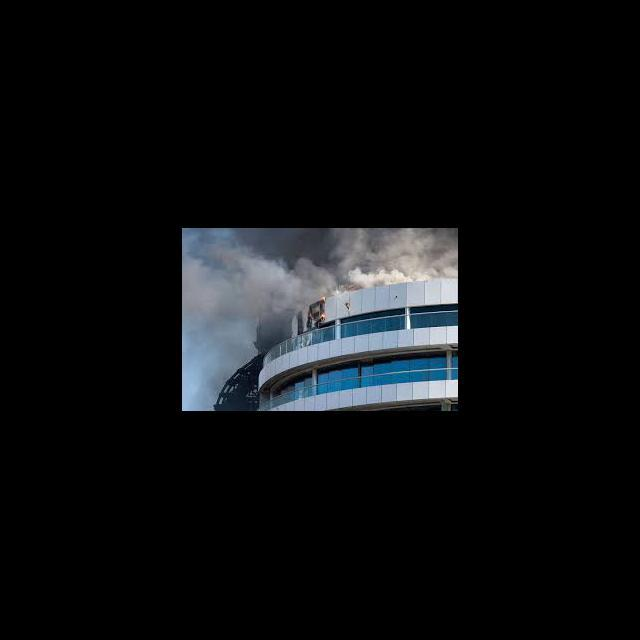Smoke: (185, 229, 288, 310), (292, 230, 458, 279)
